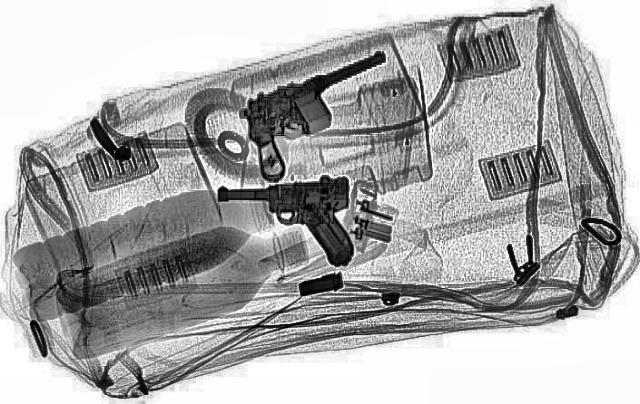Gun: (191, 44, 449, 182), (213, 175, 363, 274)
